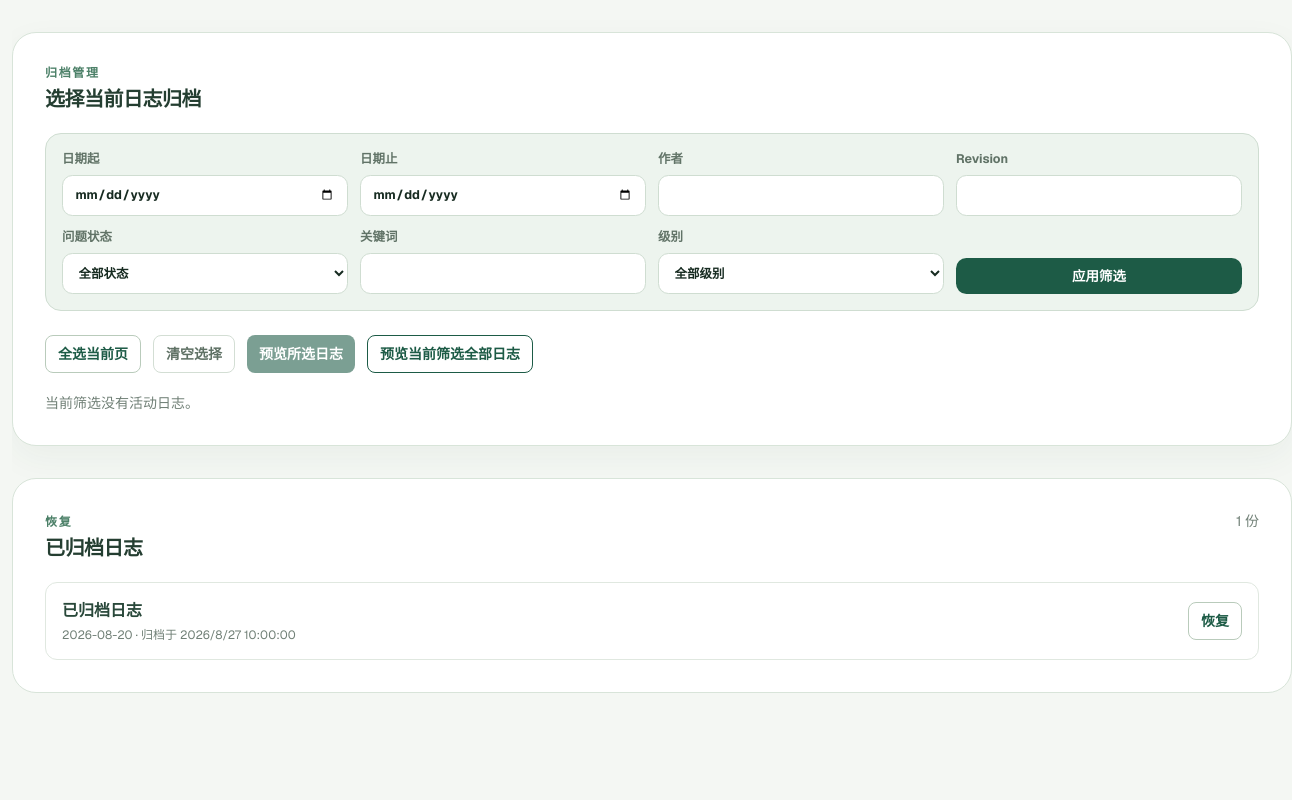
it: 归档库与归档管理 UI › 恢复单条归档日志后重新查询活动列表和归档列表
The image size is (1292, 800).
What coordinates should you click on to do the following:
click the button "恢复"
I would click on:
 (1215, 621)
Its box is [1188, 602, 1242, 640].
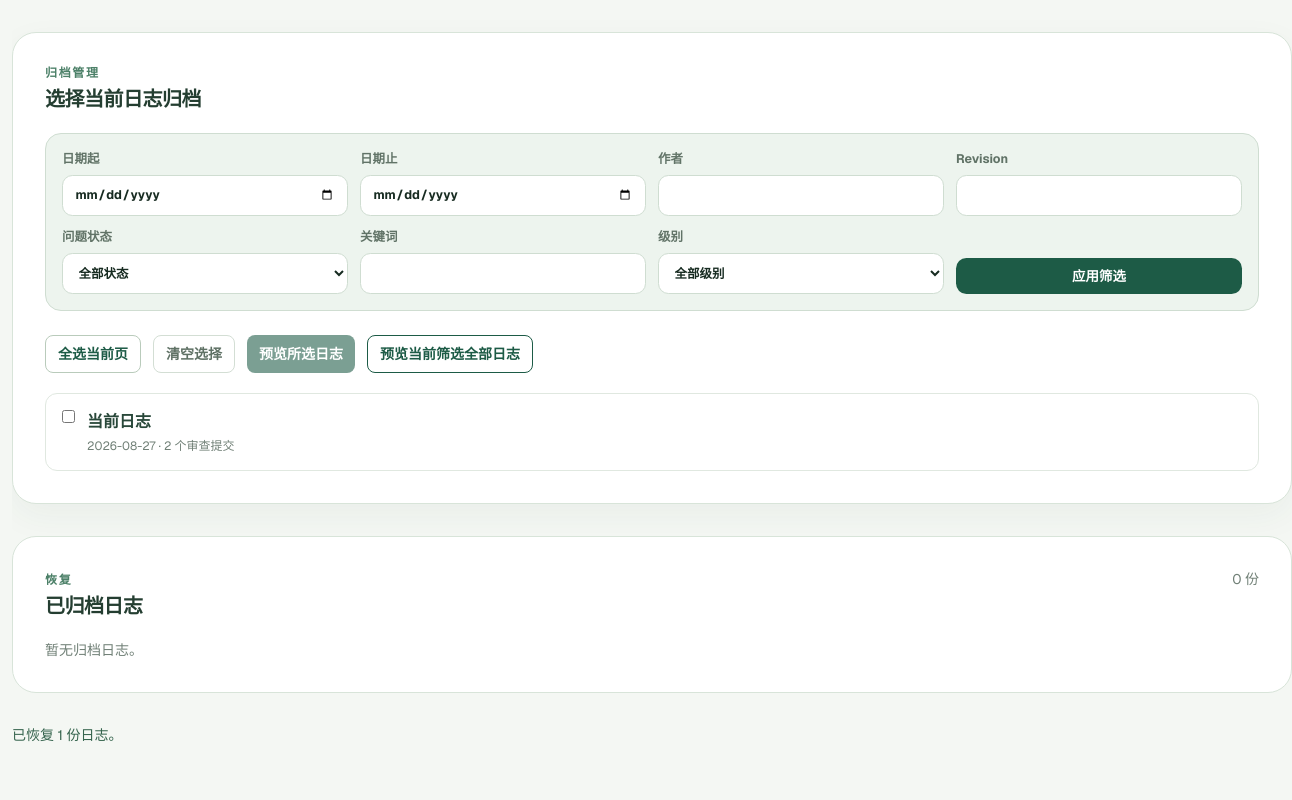
expect the text "已恢复 1 份日志。" is shown: met, box [12, 726, 122, 744]
